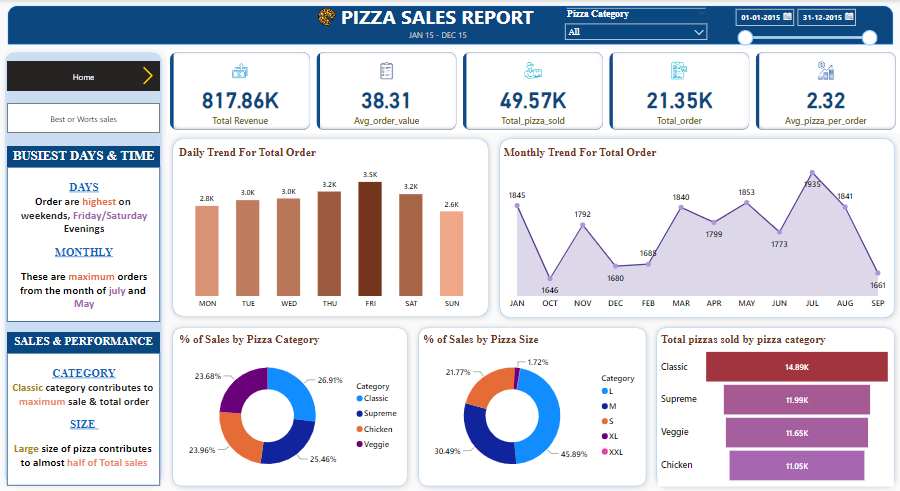

This screenshot's page, from the dashboard's own definition file:
{"tool":"powerbi","page":{"name":"Home","canvas":[1500,820],"ordinal":0},"visuals":[{"type":"shape","box":[0,78.3,278.3,738.3],"z":0},{"type":"cardVisual","fields":{"Data":["pizza_sales.Total Revenue","pizza_sales.Avg_order_value","pizza_sales.Total_pizza_sold","pizza_sales.Total_order","pizza_sales.Avg_pizza_per_order"]},"box":[278.3,81.7,1221.7,140],"z":1000},{"type":"shape","box":[11.7,8.3,1478.3,66.7],"z":2000},{"type":"textbox","box":[563.3,0,367.8,62.2],"z":3000},{"type":"textbox","box":[676.7,45.6,115.6,33.3],"z":4000},{"type":"image","box":[523.8,8.5,43.1,39.2],"z":5000},{"type":"shape","box":[278.3,221.7,545,315],"z":6000},{"type":"columnChart","title":"Daily Trend For Total Order","fields":{"Category":["pizza_sales.Day"],"Y":["pizza_sales.Total_order"]},"box":[293.3,243.3,513.3,280],"z":7000},{"type":"shape","box":[823.3,221.7,676.7,316.7],"z":8000},{"type":"areaChart","title":"Monthly Trend For Total Order","fields":{"Category":["pizza_sales.Month_Name_srt"],"Y":["pizza_sales.Total_order"]},"box":[835,243.3,655,280],"z":9000},{"type":"shape","box":[278.3,536.7,410,283.3],"z":10000},{"type":"shape","box":[1085,536.7,415,283.3],"z":11000},{"type":"shape","box":[688.3,536.7,398.3,283.3],"z":12000},{"type":"donutChart","title":"% of Sales by Pizza Category","fields":{"Y":["pizza_sales.Total Revenue"],"Category":["pizza_sales.pizza_category"]},"box":[293.3,555,383.3,255],"z":13000},{"type":"donutChart","title":"% of Sales by Pizza Size","fields":{"Y":["pizza_sales.Total Revenue"],"Category":["pizza_sales.pizza_size"]},"box":[700,555,385,255],"z":14000},{"type":"funnel","title":"Total pizzas sold by pizza category","fields":{"Y":["pizza_sales.Total_pizza_sold"],"Category":["pizza_sales.pizza_category"]},"box":[1097.1,554.3,392.9,255.7],"z":15000},{"type":"textbox","box":[11.7,243.3,255,35],"z":16000},{"type":"textbox","box":[11.2,278.8,255,257.5],"z":16001},{"type":"textbox","box":[11.2,553.8,255,35],"z":16002},{"type":"textbox","box":[11.2,588.8,255,221.2],"z":16003},{"type":"slicer","fields":{"Values":["pizza_sales.pizza_category"]},"box":[931.7,8.3,256.7,70],"z":16004},{"type":"slicer","fields":{"Values":["pizza_sales.order_date"]},"box":[1213.3,5,256.7,73.3],"z":16005},{"type":"pageNavigator","box":[11.4,101.4,255.7,50],"z":16006},{"type":"pageNavigator","box":[11.4,171.4,255.7,50],"z":16007},{"type":"image","box":[227.1,100,40,51.4],"z":16008}]}

Visuals, with their boxes in screenshot pixels (x1, y1, x2, y2), scaled from the page's 1500x820 canvas onto the 900x491 screenshot:
shape: (0, 47, 167, 489)
cardVisual - pizza_sales.Total Revenue x pizza_sales.Avg_order_value: (167, 49, 899, 133)
shape: (7, 5, 894, 45)
textbox: (338, 0, 559, 37)
textbox: (406, 27, 475, 47)
image: (314, 5, 340, 29)
shape: (167, 133, 494, 321)
"Daily Trend For Total Order" columnChart: (176, 146, 484, 313)
shape: (494, 133, 899, 322)
"Monthly Trend For Total Order" areaChart: (501, 146, 894, 313)
shape: (167, 321, 413, 490)
shape: (651, 321, 899, 490)
shape: (413, 321, 652, 490)
"% of Sales by Pizza Category" donutChart: (176, 332, 406, 485)
"% of Sales by Pizza Size" donutChart: (420, 332, 651, 485)
"Total pizzas sold by pizza category" funnel: (658, 332, 894, 485)
textbox: (7, 146, 160, 167)
textbox: (7, 167, 160, 321)
textbox: (7, 332, 160, 353)
textbox: (7, 353, 160, 485)
slicer - pizza_sales.pizza_category: (559, 5, 713, 47)
slicer - pizza_sales.order_date: (728, 3, 882, 47)
pageNavigator: (7, 61, 160, 91)
pageNavigator: (7, 103, 160, 133)
image: (136, 60, 160, 91)
